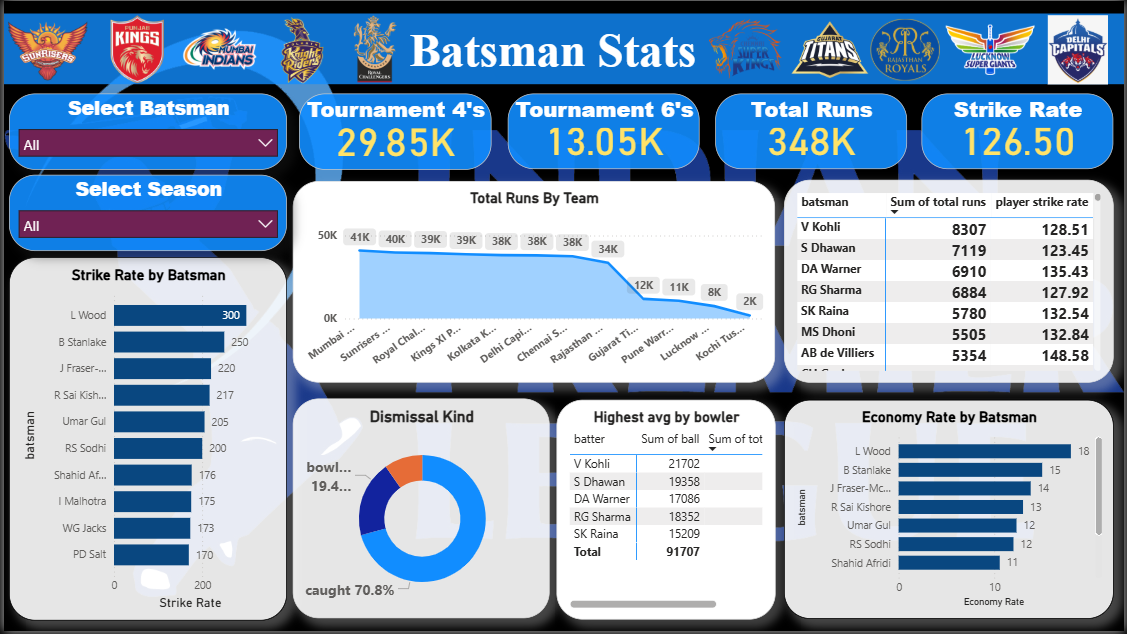

This screenshot's page, from the dashboard's own definition file:
{"tool":"powerbi","page":{"name":"Batsman Stats","canvas":[1280,720],"ordinal":3},"visuals":[{"type":"textbox","box":[0,14.6,1280.5,80.5],"z":0},{"type":"image","box":[0,16.5,100.2,79.9],"z":1000},{"type":"image","box":[881.2,0,125,111.2],"z":2000},{"type":"image","box":[1071.9,15.2,111.6,79.9],"z":3000},{"type":"image","box":[197.5,11.2,96.2,87.5],"z":4000},{"type":"image","box":[103.8,11.2,96.2,87.5],"z":5000},{"type":"image","box":[981.2,15,96.2,80],"z":6000},{"type":"image","box":[383.8,11.2,80,86.2],"z":7000},{"type":"image","box":[296.2,12.5,90,86.2],"z":8000},{"type":"image","box":[1185.4,10.8,83.8,89.2],"z":9000},{"type":"image","box":[798.8,16.2,97.5,78.8],"z":10000},{"type":"slicer","title":"Select Batsman","fields":{"Values":["ipl_2008-2024 deliveries.batting_team","ipl_2008-2024 deliveries.batter"]},"box":[6.3,105.1,317.7,87.6],"z":11000},{"type":"card","title":"Tournament 4''s","fields":{"Values":["CountNonNull(ipl_2008-2024 deliveries.batsman_runs)"]},"box":[337.7,105.1,220,87.6],"z":12000},{"type":"card","title":"Tournament 6''s","fields":{"Values":["CountNonNull(ipl_2008-2024 deliveries.batsman_runs)"]},"box":[575.1,105.4,219.5,86.3],"z":13000},{"type":"card","title":"Total Runs","fields":{"Values":["Sum(ipl_2008-2024 deliveries.total_runs)"]},"box":[813.1,105.1,218.9,86.3],"z":14000},{"type":"card","title":"Strike Rate","fields":{"Values":["Calender Table.m strikerate"]},"box":[1048.3,105.1,218.9,86.3],"z":15000},{"type":"clusteredBarChart","title":"Strike Rate by Batsman","fields":{"Category":["ipl_2008-2024 deliveries.batter"],"Y":["Calender Table.strikerate"]},"box":[6.3,292.7,317.7,415.3],"z":16000},{"type":"donutChart","title":"Dismissal Kind","fields":{"Category":["ipl_2008-2024 deliveries.dismissal_kind"],"Y":["CountNonNull(ipl_2008-2024 deliveries.dismissal_kind)"]},"box":[330,453.8,293.8,251.2],"z":17000},{"type":"areaChart","title":"Total Runs By Team","fields":{"Category":["ipl_2008-2024 deliveries.batting_team"],"Y":["Sum(ipl_2008-2024 deliveries.total_runs)"]},"box":[330,205,551.2,230],"z":18000},{"type":"pivotTable","title":"Highest avg by bowler","fields":{"Rows":["ipl_2008-2024 deliveries.batter"],"Values":["Sum(ipl_2008-2024 deliveries.ball)","Sum(ipl_2008-2024 deliveries.total_runs)"]},"box":[631.2,455,250,251.2],"z":19000},{"type":"pivotTable","fields":{"Rows":["ipl_2008-2024 deliveries.batter"],"Values":["Sum(ipl_2008-2024 deliveries.total_runs)","Calender Table.strikerate"]},"box":[890.8,203.7,376.7,231.9],"z":20000},{"type":"slicer","title":"Select Season","fields":{"Values":["ipl 2008-2024 matches.season"]},"box":[6.1,198.8,317.8,87.1],"z":21000},{"type":"clusteredBarChart","title":"Economy Rate by Batsman","fields":{"Category":["ipl_2008-2024 deliveries.batter"],"Y":["Calender Table.Economy"]},"box":[890.8,455.2,376.7,250.3],"z":22000},{"type":"textbox","box":[425.7,21.4,402.9,78.6],"z":23000}]}

Visuals, with their boxes in screenshot pixels (x1, y1, x2, y2), scaled from the page's 1280x720 canvas onto the 1127x634 screenshot:
textbox: <box>0,13,1126,84</box>
image: <box>0,15,88,85</box>
image: <box>776,0,886,98</box>
image: <box>944,13,1042,84</box>
image: <box>174,10,259,87</box>
image: <box>91,10,176,87</box>
image: <box>864,13,949,84</box>
image: <box>338,10,408,86</box>
image: <box>261,11,340,87</box>
image: <box>1044,10,1117,88</box>
image: <box>703,14,789,84</box>
"Select Batsman" slicer: <box>6,93,285,170</box>
"Tournament 4''s" card: <box>297,93,491,170</box>
"Tournament 6''s" card: <box>506,93,700,169</box>
"Total Runs" card: <box>716,93,909,169</box>
"Strike Rate" card: <box>923,93,1116,169</box>
"Strike Rate by Batsman" clusteredBarChart: <box>6,258,285,623</box>
"Dismissal Kind" donutChart: <box>291,400,549,621</box>
"Total Runs By Team" areaChart: <box>291,181,776,383</box>
"Highest avg by bowler" pivotTable: <box>556,401,776,622</box>
pivotTable - ipl_2008-2024 deliveries.batter x Sum(ipl_2008-2024 deliveries.total_runs): <box>784,179,1116,384</box>
"Select Season" slicer: <box>5,175,285,252</box>
"Economy Rate by Batsman" clusteredBarChart: <box>784,401,1116,621</box>
textbox: <box>375,19,730,88</box>
